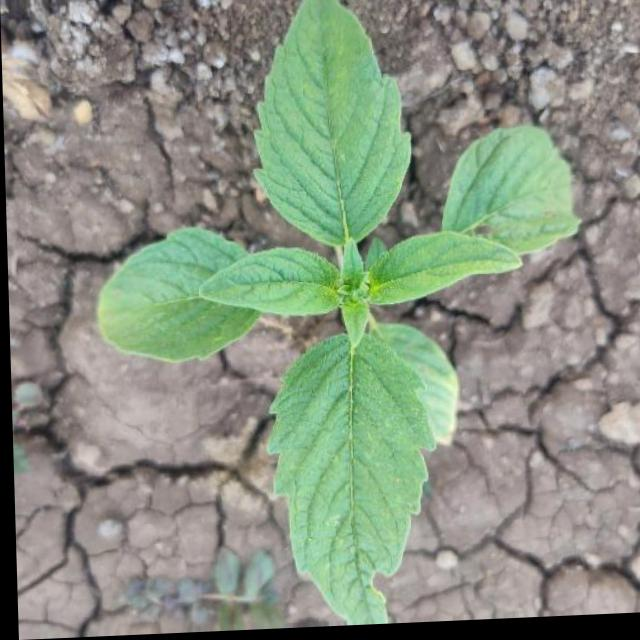crop: (78, 0, 595, 637)
